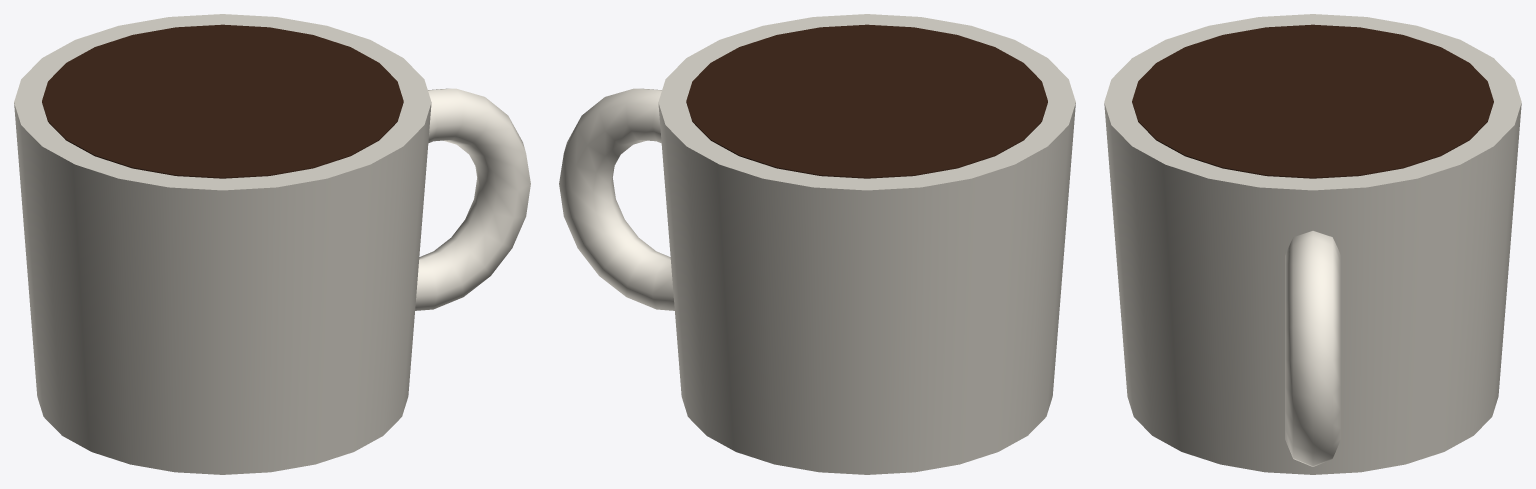
The model's file is mug.glb.
3 renders of one model, left to right at view 1: azimuth 30°, elevation 25°; view 2: azimuth 150°, elevation 25°; view 3: azimuth 270°, elevation 25°, orthographic.
Parts seen in each view (by area): view 1: Cup, Coffee, Handle; view 2: Cup, Coffee, Handle; view 3: Cup, Coffee, Handle.
Boxes of the visible parts, x1,y1,x2,y2 form: Cup: (14, 14, 431, 474); Coffee: (42, 24, 403, 178); Handle: (415, 88, 530, 310); Cup: (658, 14, 1075, 474); Coffee: (686, 24, 1047, 178); Handle: (559, 88, 674, 310); Cup: (1104, 14, 1521, 474); Coffee: (1132, 24, 1493, 178); Handle: (1285, 231, 1340, 466).
Size of the model in its own units: 0.242 by 0.1405 by 0.18.
